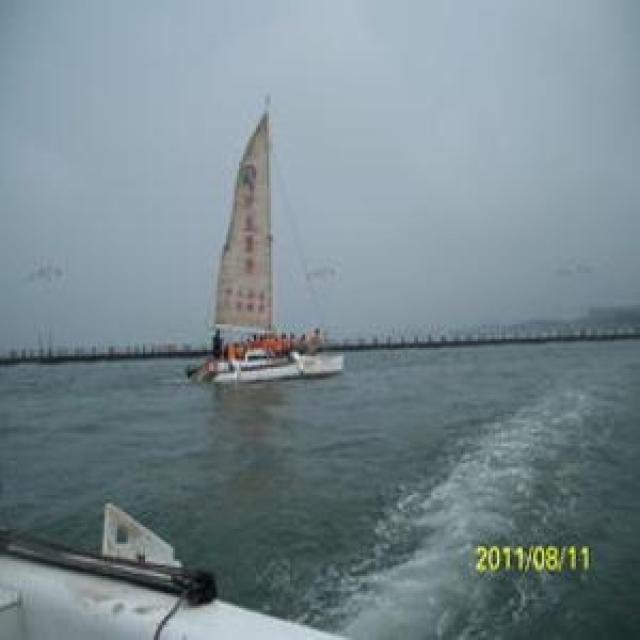sailboat: (182, 102, 348, 380)
